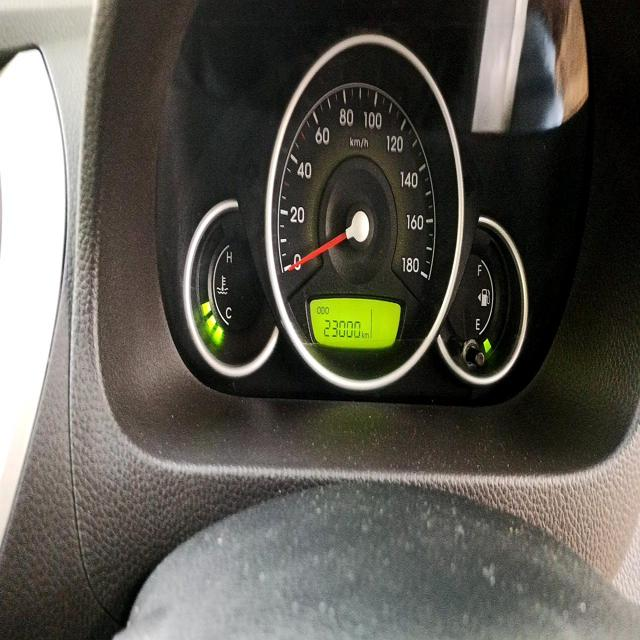odometer: (322, 318, 361, 340)
